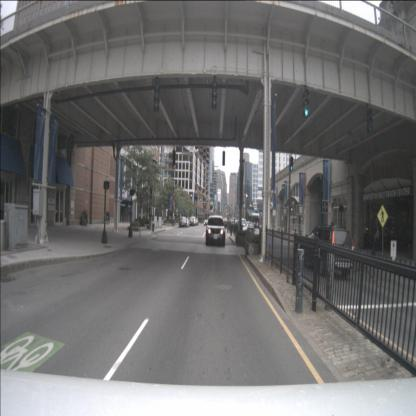human-pedestrian-adult: (376, 226, 380, 252)
vehicle-car: (299, 224, 355, 278), (206, 214, 226, 246), (179, 216, 187, 228), (182, 218, 190, 228), (190, 216, 196, 226), (187, 218, 194, 226), (204, 219, 209, 226), (194, 218, 198, 226)
vehicle-truck: (236, 219, 250, 236)
